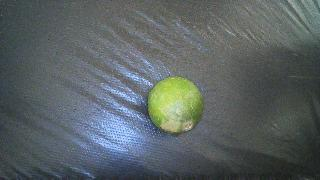DESECHO: (147, 77, 204, 134)
